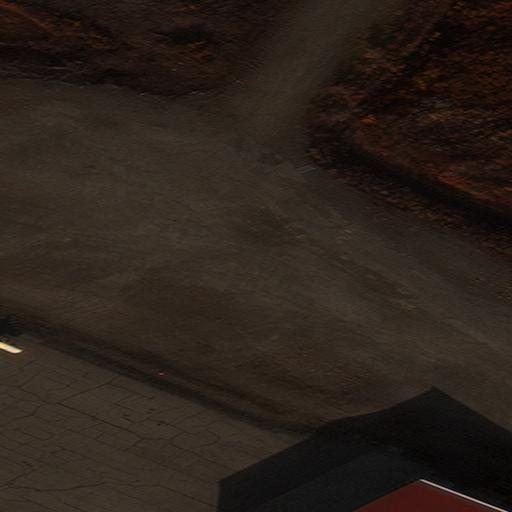Small Civil Transport: (0, 335, 22, 351)
